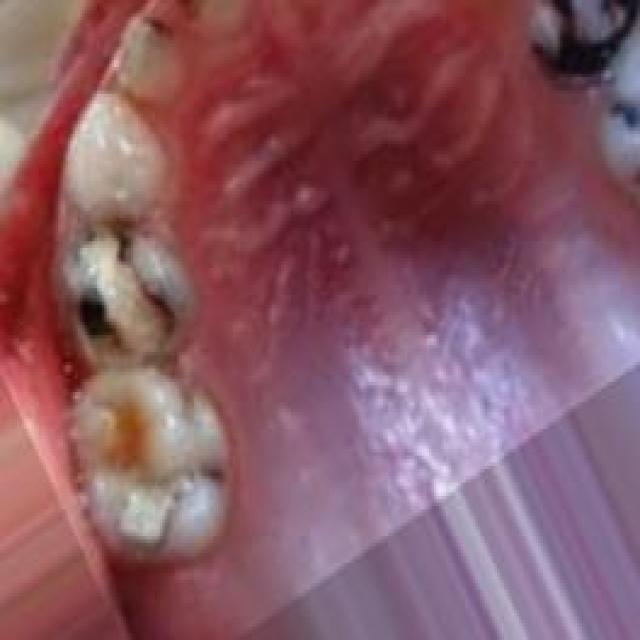caries: (78, 371, 234, 559), (63, 223, 194, 367), (519, 0, 640, 87), (116, 14, 192, 111), (594, 83, 640, 169)
